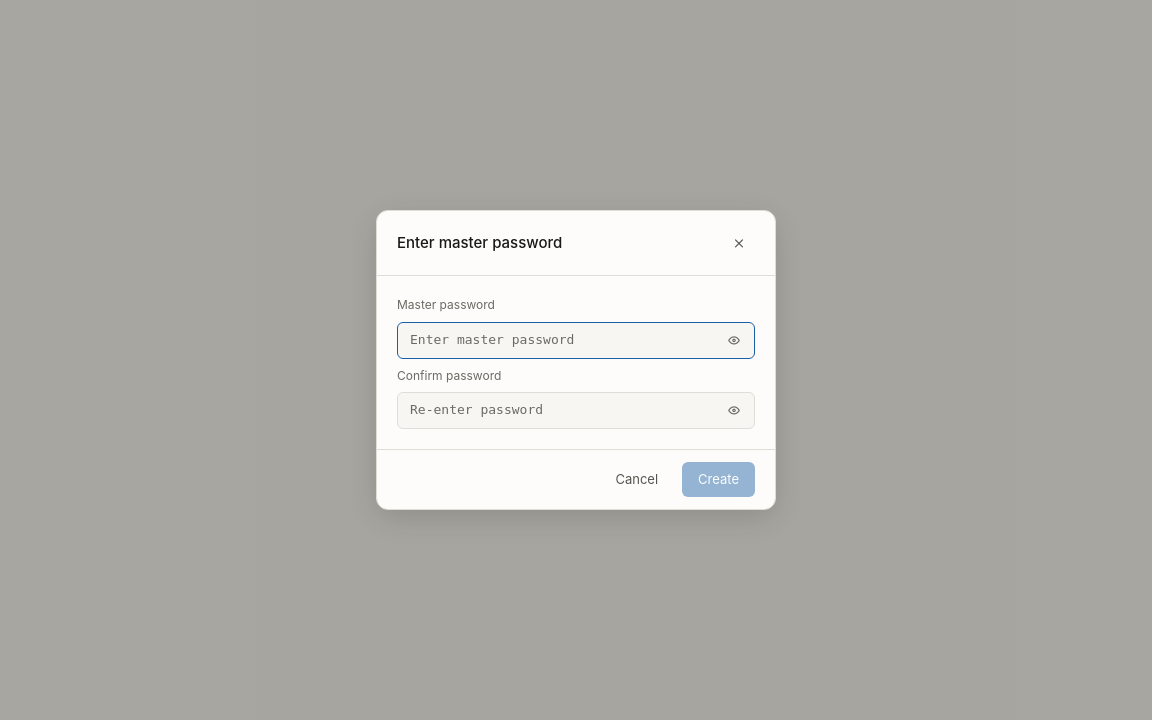
Test: PasswordDialog › clears local validation errors after editing
The image size is (1152, 720).
In the password field labelled "Master password": (576, 340) [397, 322, 755, 358], type "first-password"
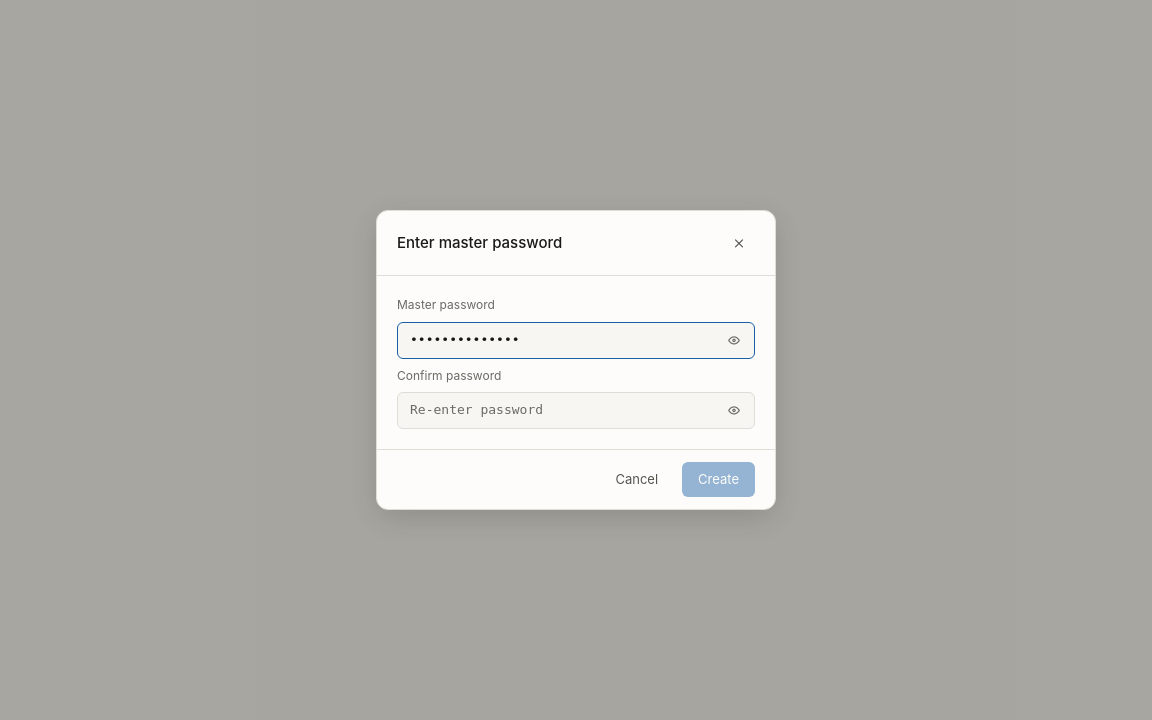
In the password field labelled "Confirm password": (576, 410) [397, 392, 755, 429], type "different-password"
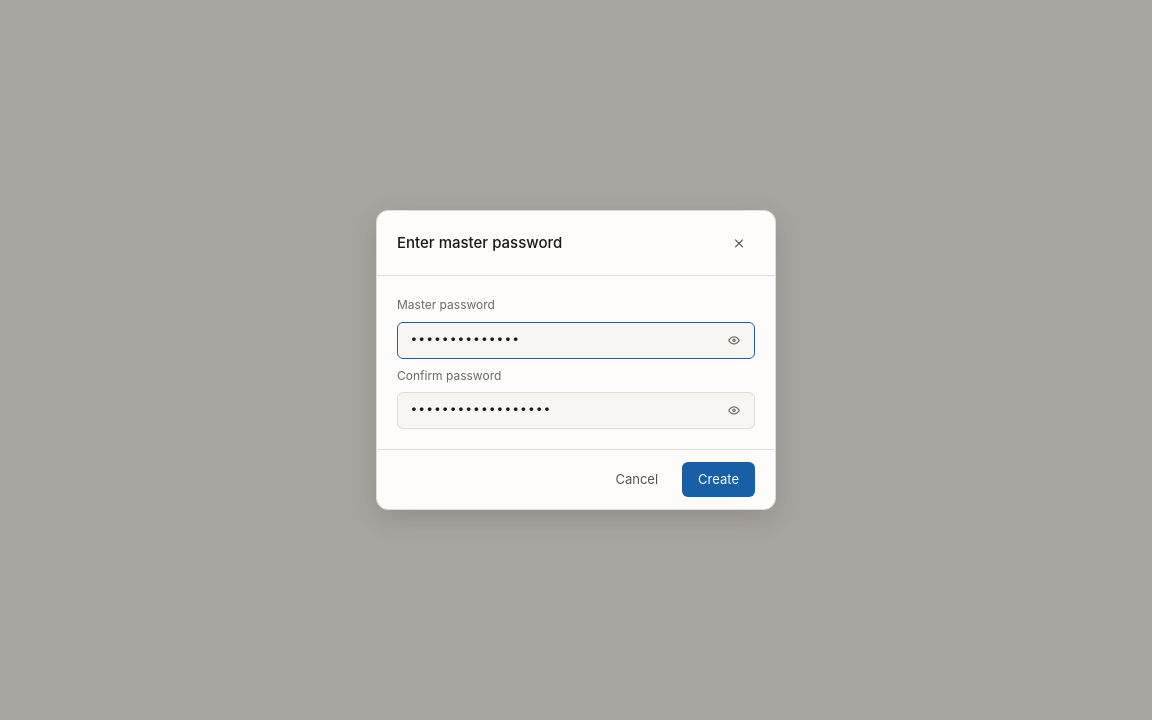
Click the button "Create": (719, 479) [682, 462, 755, 497]
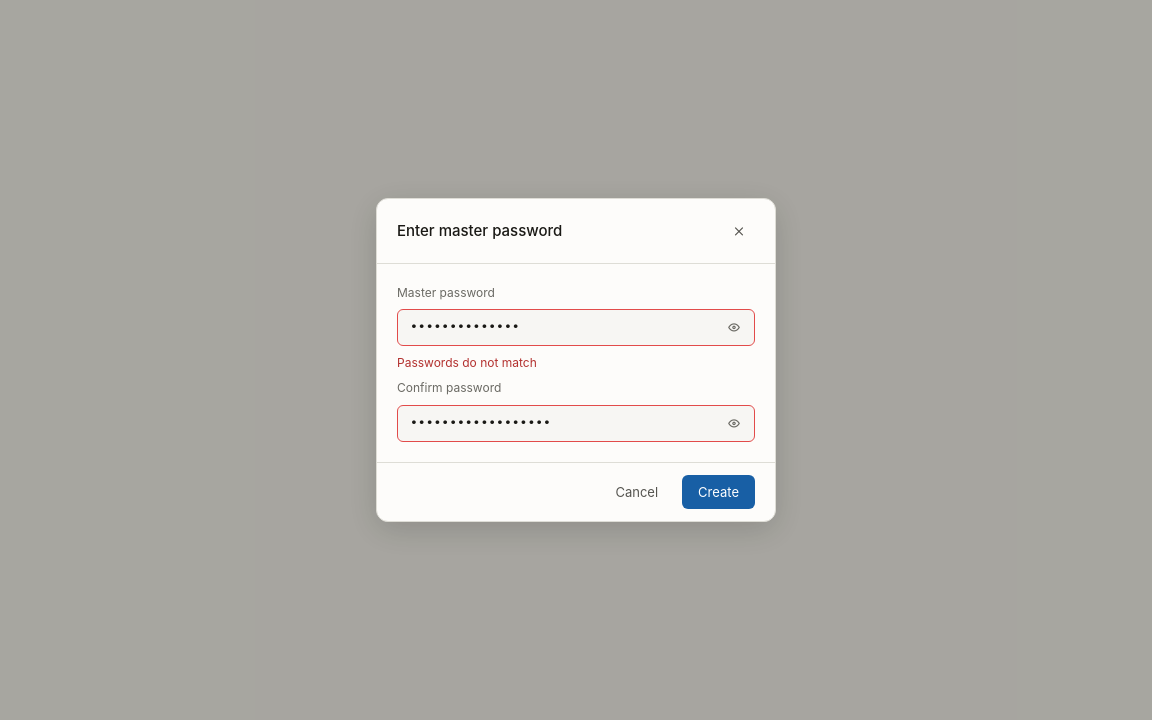
Expected: the text "Passwords do not match" is shown, [397, 355, 537, 370]
In the password field labelled "Confirm password": (576, 423) [397, 405, 755, 442], type "first-password"
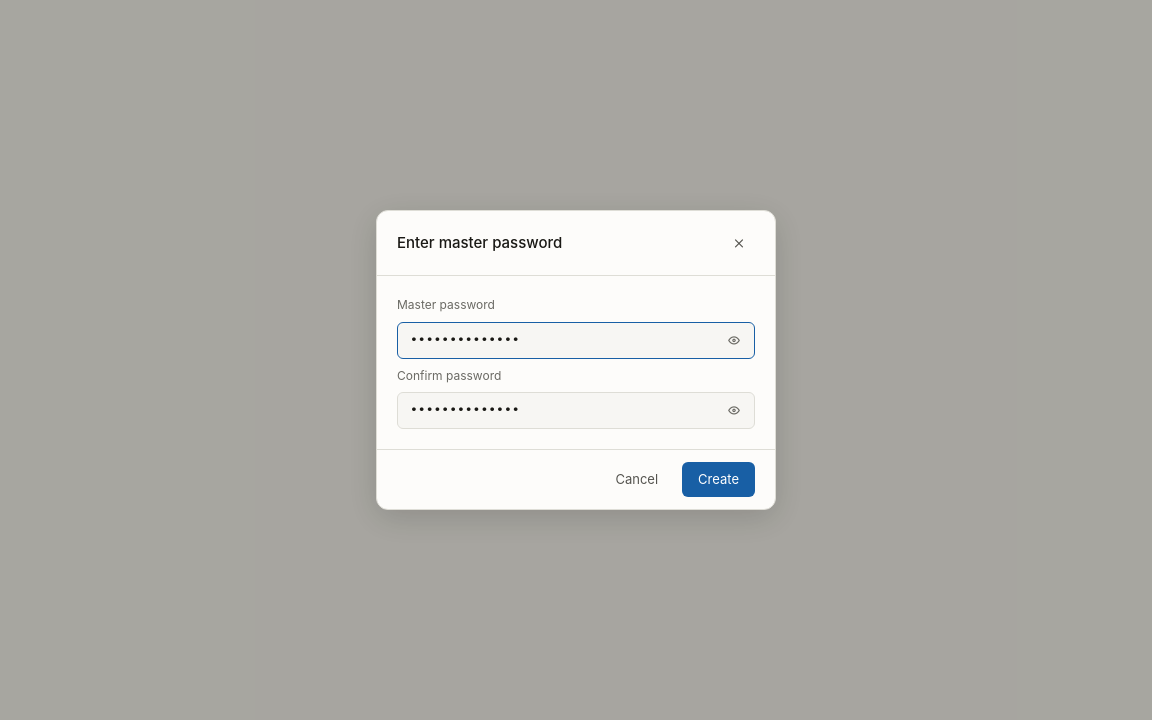
Expected: the text "Passwords do not match" is gone
